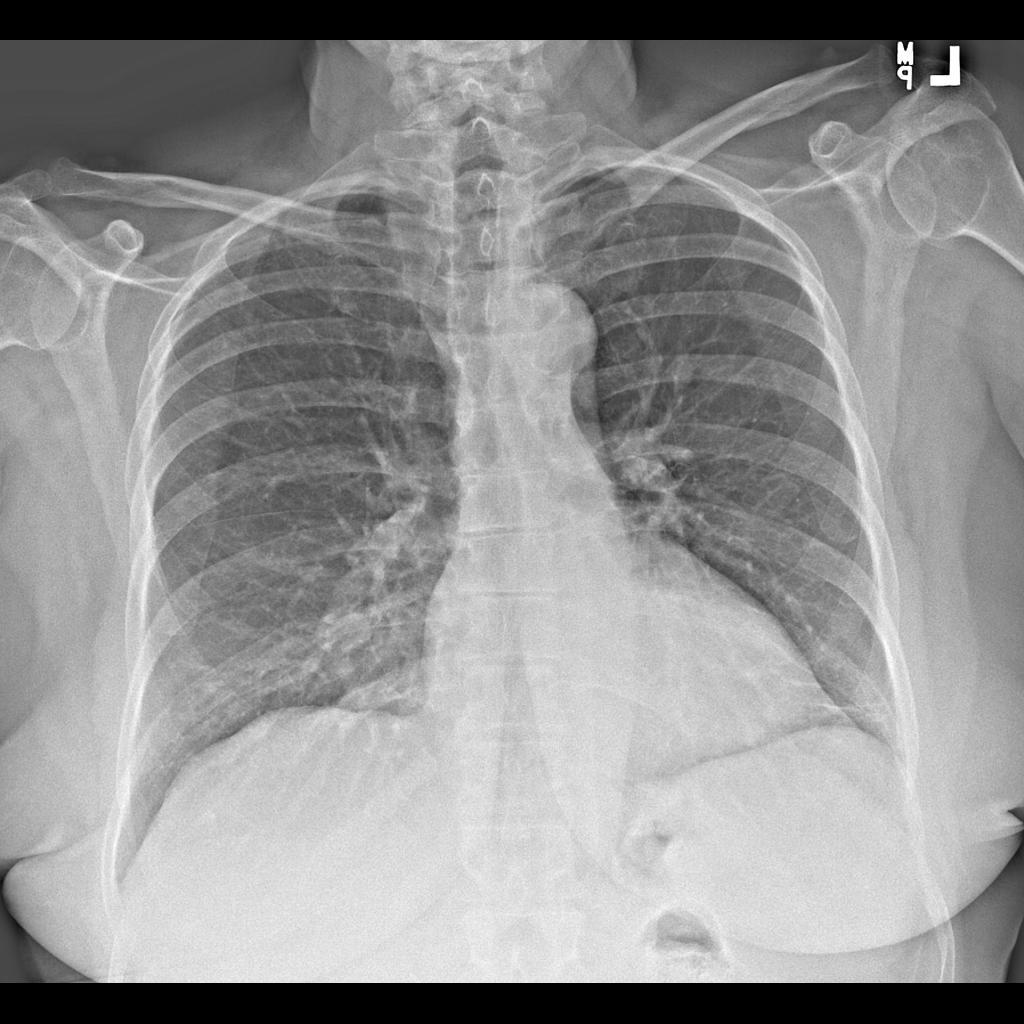Nodule: (320, 612, 370, 662)
